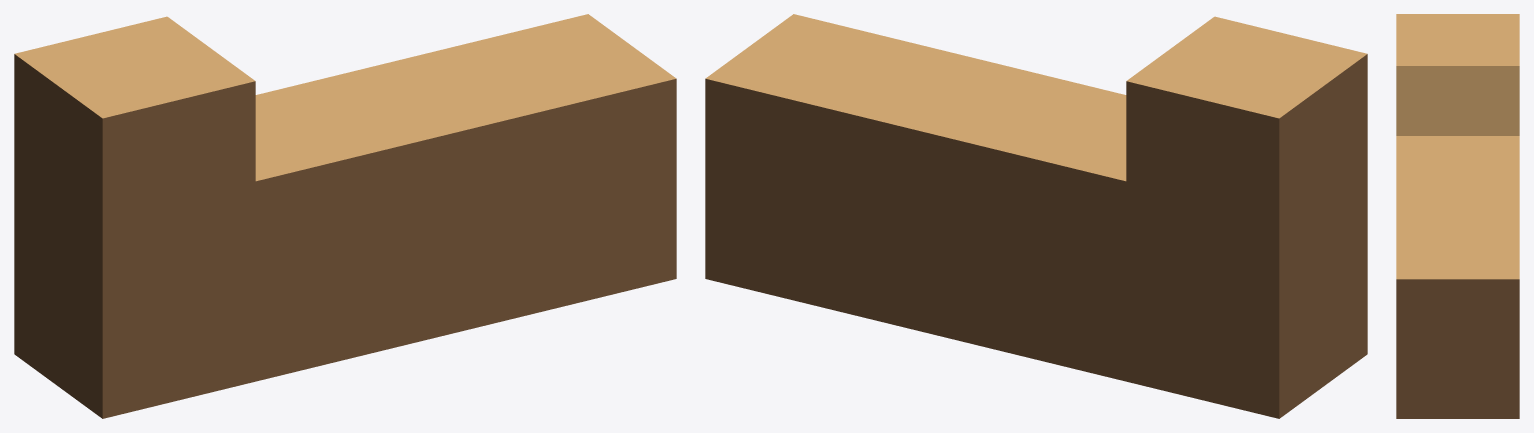
The model's file is Table.fbx.
3 renders of one model, left to right at view 1: azimuth 30°, elevation 25°; view 2: azimuth 150°, elevation 25°; view 3: azimuth 270°, elevation 25°, orthographic. The views are drawn at different scales.
Visible parts, largest first — view 1: table; view 2: table; view 3: table.
Boxes of the visible parts, bbox=[...] form: table: bbox=[14, 14, 676, 418]; table: bbox=[705, 14, 1367, 418]; table: bbox=[1396, 14, 1519, 418].
Bounding box in the file's own units: 240 × 120 × 64.
